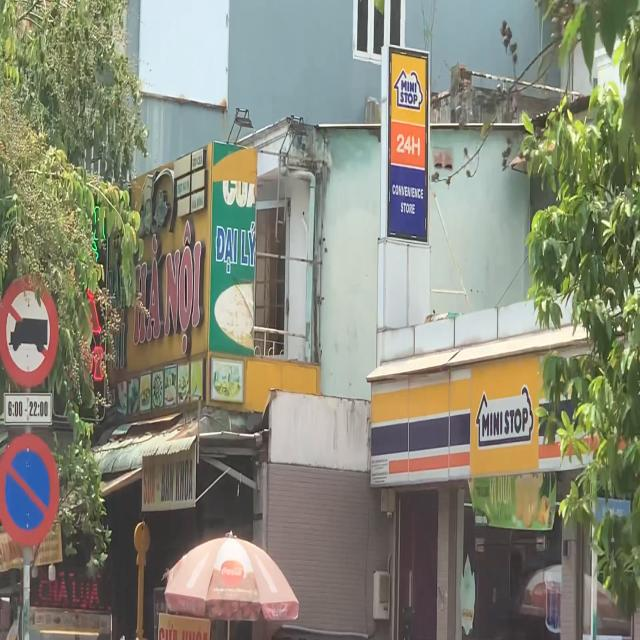Cam con lai: (0, 272, 60, 382)
Cam do: (0, 431, 62, 549)
